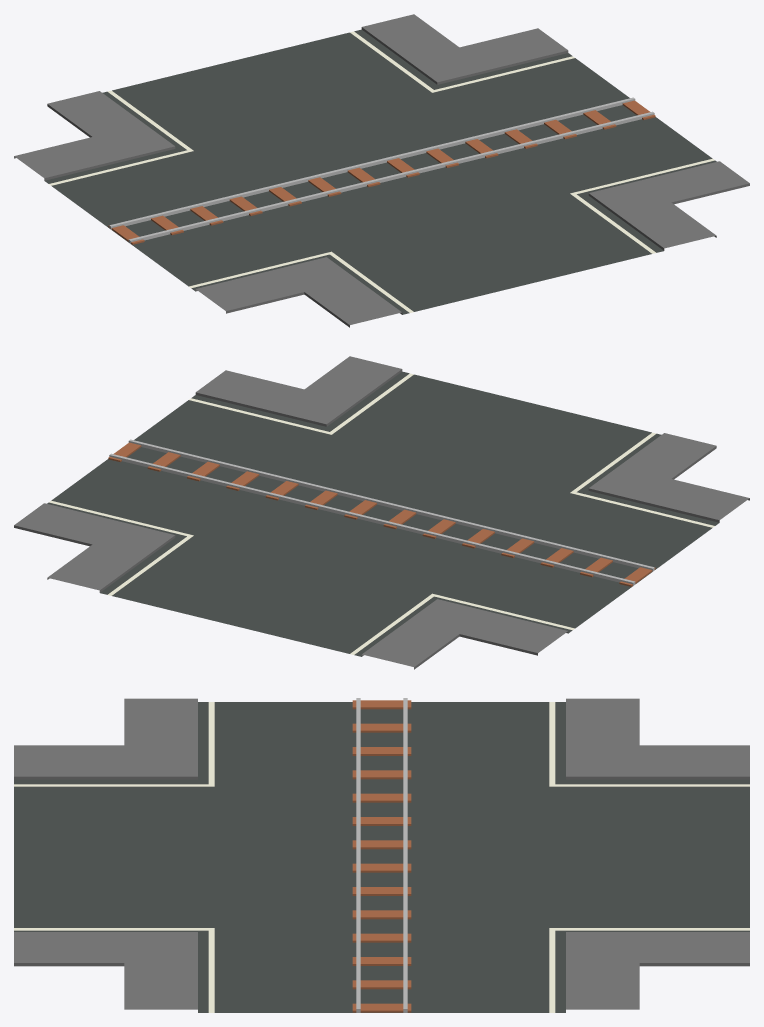
File: Road_Crossroads_3.fbx
3 renders of one model, top to bottom at view 1: azimuth 30°, elevation 25°; view 2: azimuth 150°, elevation 25°; view 3: azimuth 270°, elevation 25°, orthographic. The views are drawn at different scales.
Parts seen in each view (by area): view 1: Road_Crossroads_3; view 2: Road_Crossroads_3; view 3: Road_Crossroads_3.
Boxes of the visible parts, left/top/right/bottom form: Road_Crossroads_3: left=14, top=14, right=749, bottom=327; Road_Crossroads_3: left=14, top=356, right=749, bottom=669; Road_Crossroads_3: left=14, top=698, right=749, bottom=1012.
Size of the model in its own units: 42 by 0.2377 by 42.
Materials: 1 (1 with a texture image).
